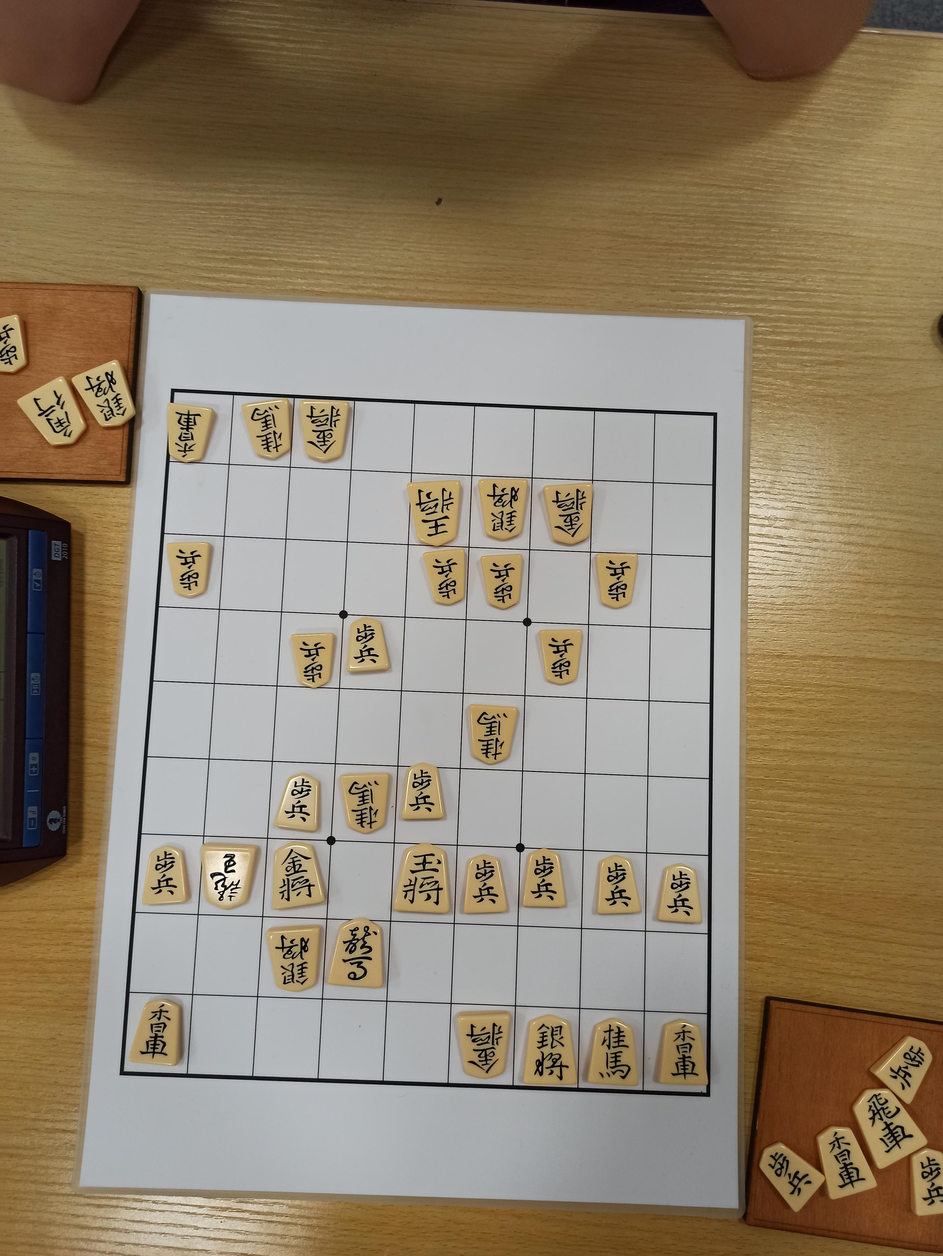board: (121, 390, 715, 1096)
